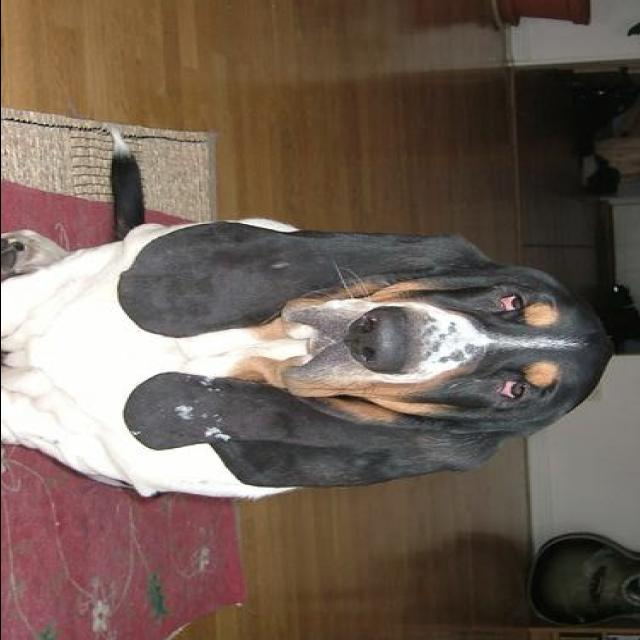basset: (4, 126, 616, 502)
